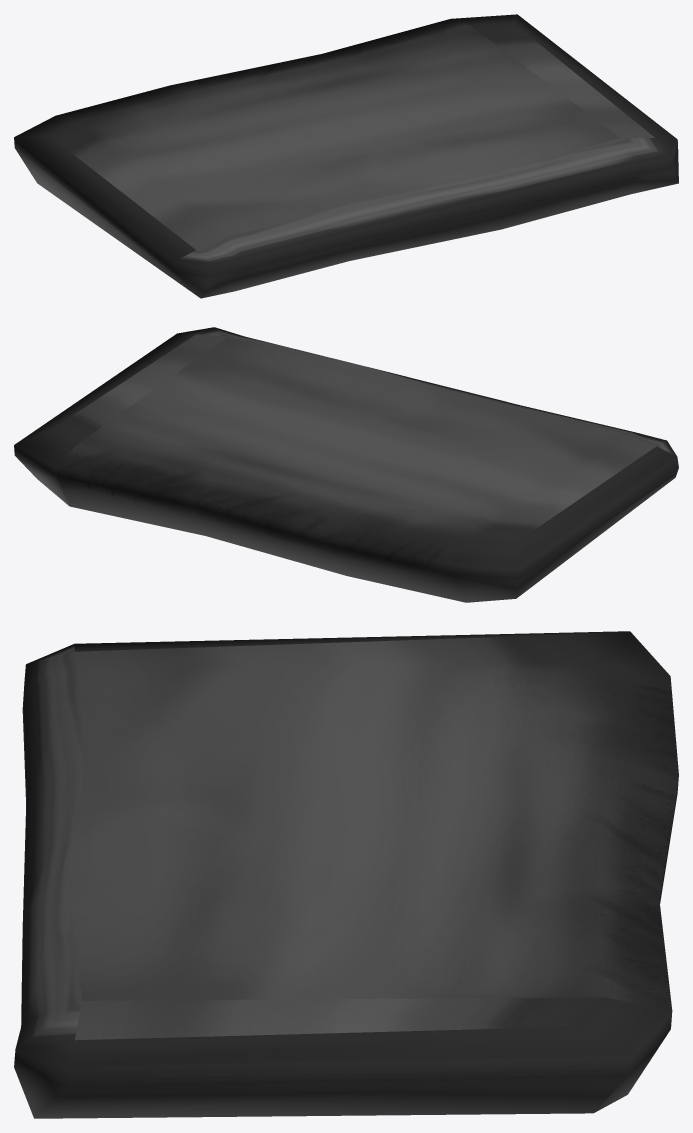
The model's file is shore.glb.
3 views of the same model, one above another, from view 1: azimuth 30°, elevation 25°; view 2: azimuth 150°, elevation 25°; view 3: azimuth 270°, elevation 25° (orthographic). The views are drawn at different scales.
Parts seen in each view (by area): view 1: Shore; view 2: Shore; view 3: Shore.
Boxes of the visible parts, bbox=[...] form: Shore: bbox=[14, 14, 678, 298]; Shore: bbox=[14, 327, 678, 602]; Shore: bbox=[14, 631, 678, 1118].
Size of the model in its own units: 20.14 by 2.15 by 13.29.
1 material, 1 textured.
